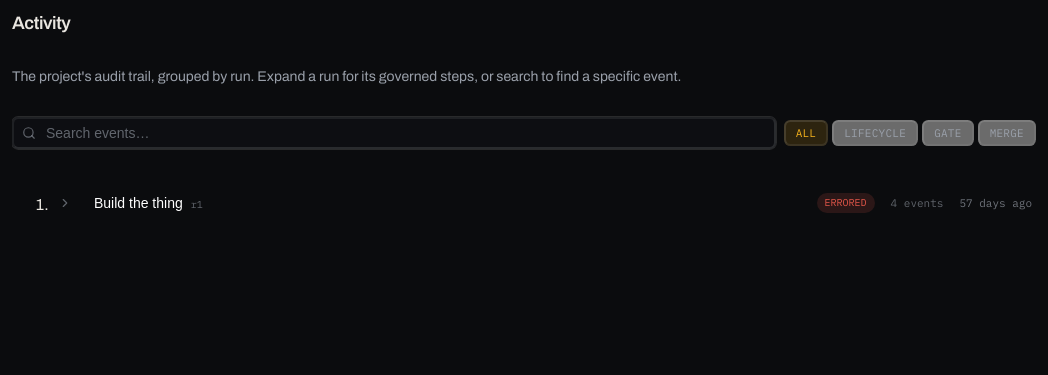
it: ActivityWorkspace › groups events by run (collapsed + summarized) and expands to the detail
The image size is (1048, 375).
Check: the text "errored" is shown, box [817, 193, 875, 213]
Check: the text "Run errored" is not shown
Note: Expand → the governed steps, persona attribution, and a link to the run.
Click the button "Build the thing": (138, 203) [52, 181, 1036, 225]
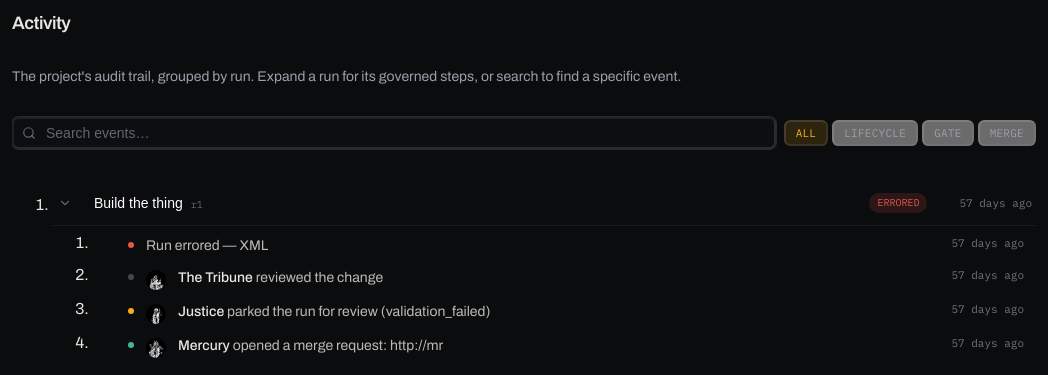
Check: the text "Run errored — XML" is shown, box [146, 238, 268, 253]
Check: the text "The Tribune" is shown, box [178, 270, 256, 285]
